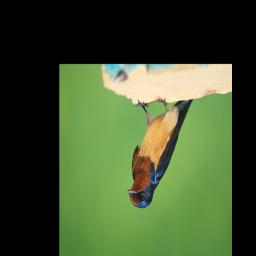Swallow: (127, 95, 194, 210)
